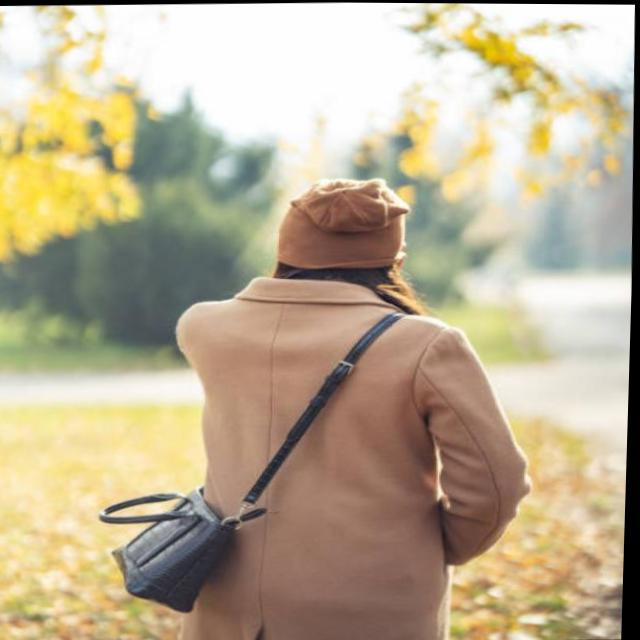no helmet: (242, 162, 460, 320)
